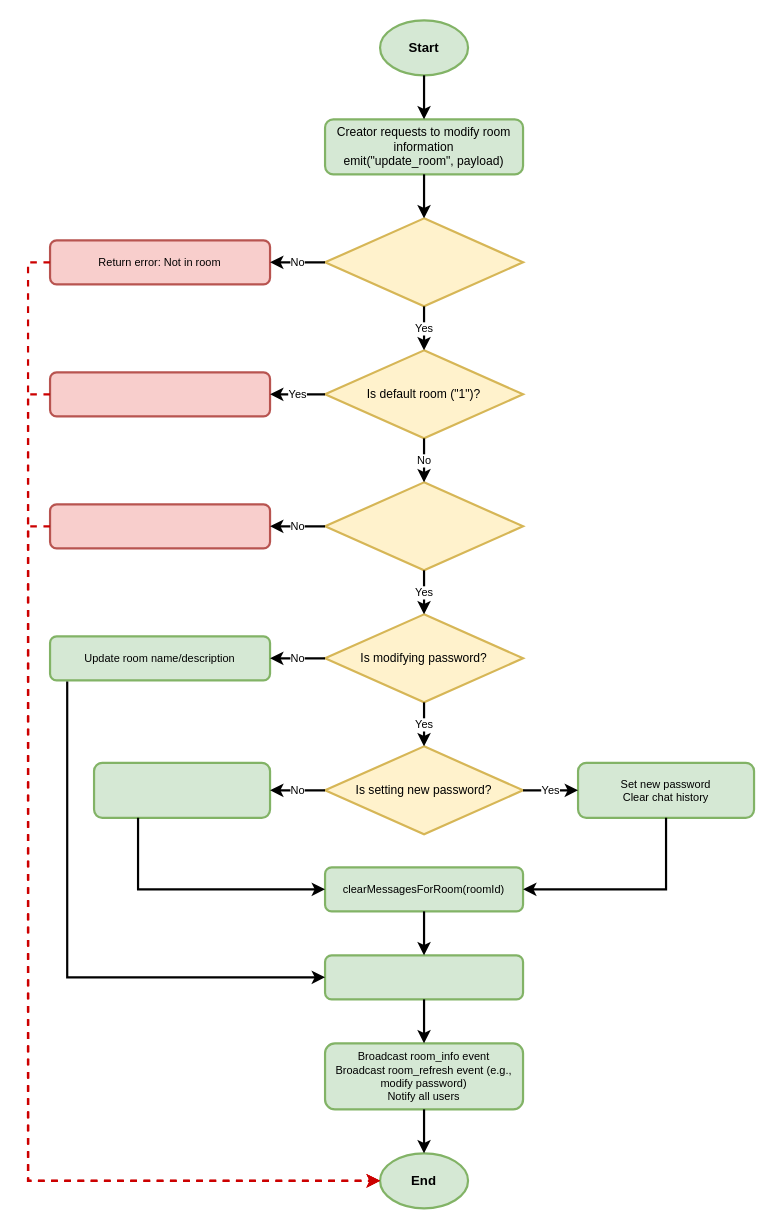
The diagram is 773 pixels wide and 1228 high, and some of its shapes have lost their labels. The shapes that lost their labels are listed below. From the top down, each one's centre as x and y in pixels, then its label:
At [423,262]: "Is in room?".
At [159,394]: "Return error: Default room cannot set password".
At [159,526]: "Return error: Only creator can modify".
At [423,526]: "Is room creator?".
At [181,789]: "Remove password Clear chat history".
At [423,977]: "updateRoom(roomId, updates)".
